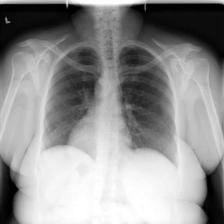normal: (35, 39, 181, 175)
